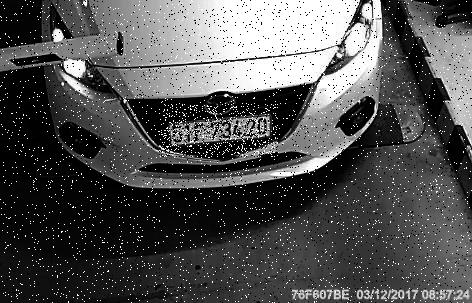License-plate: (161, 106, 280, 159)
